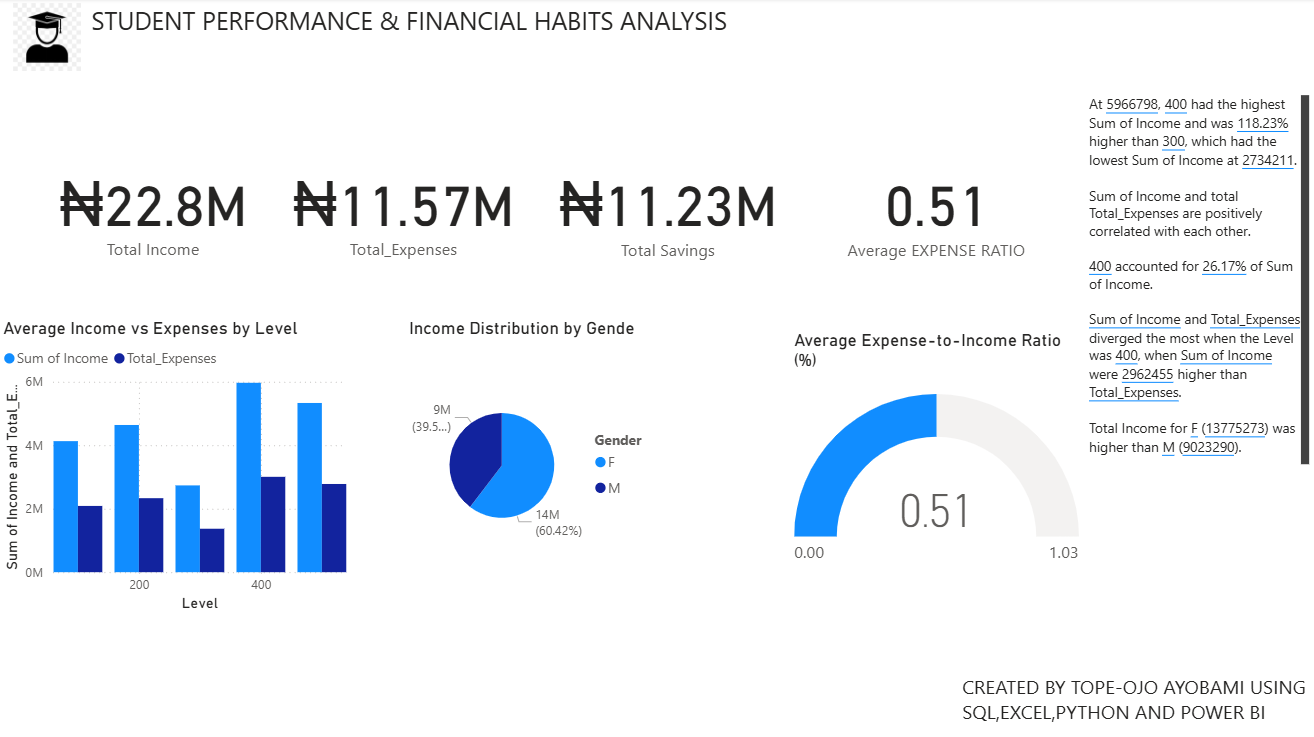

This screenshot's page, from the dashboard's own definition file:
{"tool":"powerbi","page":{"name":"OVERVIEW DASHBOARD","canvas":[1280,720],"ordinal":0},"visuals":[{"type":"image","box":[9.5,0,76,76],"z":0},{"type":"textbox","box":[85.5,0,630.5,53.2],"z":1000},{"type":"card","fields":{"Values":["MERGED_DATSET.Total Income"]},"box":[0,76,302,260.2],"z":2000},{"type":"card","fields":{"Values":["MERGED_DATSET.Total_Expenses"]},"box":[254.5,76,279.2,260.2],"z":3000},{"type":"card","fields":{"Values":["MERGED_DATSET.Total Savings"]},"box":[533.6,102.6,235.5,208.9],"z":4000},{"type":"card","fields":{"Values":["MERGED_DATSET.Average EXPENSE RATIO"]},"box":[769.1,89.3,286.8,233.6],"z":5000},{"type":"clusteredColumnChart","title":"Average Income vs Expenses by Level","fields":{"Category":["MERGED_DATSET.Level"],"Y":["Sum(MERGED_DATSET.Income)","MERGED_DATSET.Total_Expenses"]},"box":[0,311.5,343.7,290.6],"z":6000},{"type":"pieChart","title":"Income Distribution by Gende","fields":{"Category":["MERGED_DATSET.Gender"],"Y":["MERGED_DATSET.Total Income"]},"box":[395,311.5,256.4,267.8],"z":7000},{"type":"gauge","title":"Average Expense-to-Income Ratio (%)","fields":{"Y":["MERGED_DATSET.Average EXPENSE RATIO"]},"box":[769,323,287,256],"z":8000},{"type":"textbox","box":[932.5,651.4,347.5,68.4],"z":9000},{"type":"textbox","box":[1055.9,89.3,224.1,381.7],"z":9001}]}

Visuals, with their boxes in screenshot pixels (x1, y1, x2, y2), scaled from the page's 1280x720 canvas onto the 1314x737 screenshot:
image: {"left": 10, "top": 0, "right": 88, "bottom": 78}
textbox: {"left": 88, "top": 0, "right": 735, "bottom": 54}
card - MERGED_DATSET.Total Income: {"left": 0, "top": 78, "right": 310, "bottom": 344}
card - MERGED_DATSET.Total_Expenses: {"left": 261, "top": 78, "right": 548, "bottom": 344}
card - MERGED_DATSET.Total Savings: {"left": 548, "top": 105, "right": 790, "bottom": 319}
card - MERGED_DATSET.Average EXPENSE RATIO: {"left": 790, "top": 91, "right": 1084, "bottom": 331}
"Average Income vs Expenses by Level" clusteredColumnChart: {"left": 0, "top": 319, "right": 353, "bottom": 616}
"Income Distribution by Gende" pieChart: {"left": 405, "top": 319, "right": 669, "bottom": 593}
"Average Expense-to-Income Ratio (%)" gauge: {"left": 789, "top": 331, "right": 1084, "bottom": 593}
textbox: {"left": 957, "top": 667, "right": 1313, "bottom": 736}
textbox: {"left": 1084, "top": 91, "right": 1313, "bottom": 482}
